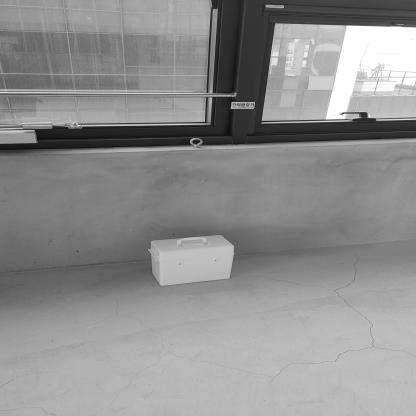DDL: (150, 235, 234, 287)
